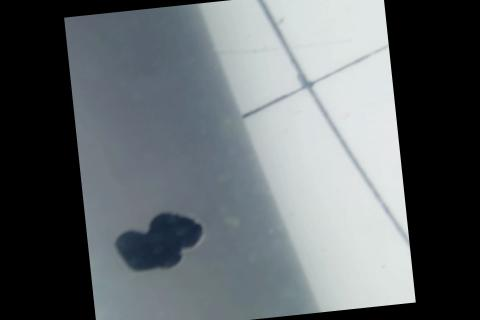kebocoran: (111, 207, 207, 275)
